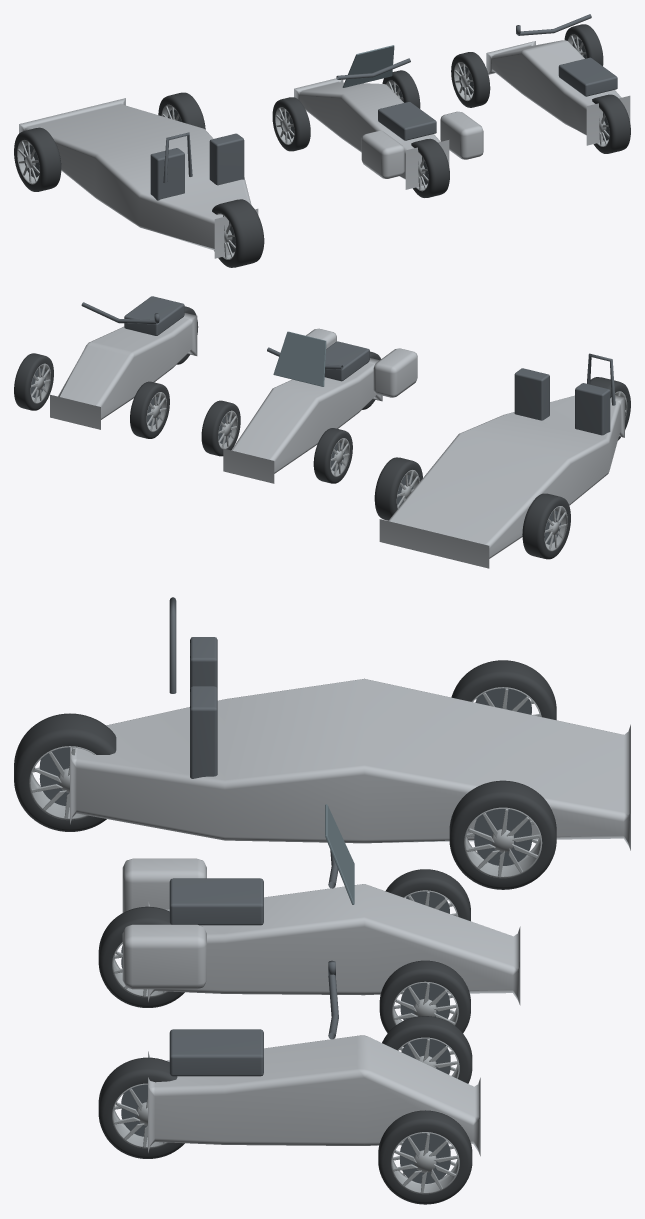
Rendered from scale-blockouts.glb.
The picture shows the model from 3 angles, top to bottom: view 1: azimuth 30°, elevation 25°; view 2: azimuth 150°, elevation 25°; view 3: azimuth 270°, elevation 25°; orthographic projection. The views are drawn at different scales.
Visible parts, largest first — view 1: slingshot_body_envelope, ryker_rally_body_envelope, spyder_f3t_body_envelope, slingshot_rear_tire, slingshot_front_left_tire, f3t_luggage, scale_seat.001, f3t_luggage.001, tandem_seat.001, tandem_seat, scale_seat, ryker_rally_rear_tire (+10 smaller); view 2: slingshot_body_envelope, spyder_f3t_body_envelope, ryker_rally_body_envelope, f3t_windshield, slingshot_front_left_tire, f3t_luggage, scale_seat, scale_seat.001, slingshot_front_right_tire, tandem_seat.001, ryker_rally_front_right_tire, ryker_rally_front_left_tire (+4 smaller); view 3: slingshot_body_envelope, ryker_rally_body_envelope, spyder_f3t_body_envelope, f3t_luggage.001, slingshot_front_right_tire, slingshot_rear_tire, tandem_seat.001, tandem_seat, ryker_rally_front_right_tire, ryker_rally_rear_tire, f3t_luggage, slingshot_front_left_tire (+12 smaller).
Part boxes in pixels (left/top/right/bottom): slingshot_body_envelope: left=19, top=98, right=258, bottom=258; ryker_rally_body_envelope: left=486, top=40, right=630, bottom=145; spyder_f3t_body_envelope: left=294, top=78, right=449, bottom=189; slingshot_rear_tire: left=212, top=199, right=264, bottom=267; slingshot_front_left_tire: left=14, top=127, right=61, bottom=191; f3t_luggage: left=361, top=131, right=404, bottom=178; scale_seat.001: left=209, top=133, right=244, bottom=185; f3t_luggage.001: left=440, top=111, right=483, bottom=159; tandem_seat.001: left=558, top=57, right=617, bottom=96; tandem_seat: left=378, top=102, right=436, bottom=140; scale_seat: left=150, top=148, right=184, bottom=200; ryker_rally_rear_tire: left=592, top=94, right=630, bottom=153; slingshot_body_envelope: left=379, top=395, right=624, bottom=568; spyder_f3t_body_envelope: left=223, top=358, right=382, bottom=483; ryker_rally_body_envelope: left=50, top=313, right=197, bottom=429; f3t_windshield: left=273, top=331, right=326, bottom=386; slingshot_front_left_tire: left=522, top=493, right=570, bottom=559; f3t_luggage: left=373, top=348, right=417, bottom=397; scale_seat: left=575, top=383, right=610, bottom=435; scale_seat.001: left=514, top=368, right=549, bottom=420; slingshot_front_right_tire: left=374, top=457, right=422, bottom=520; tandem_seat.001: left=124, top=296, right=184, bottom=335; ryker_rally_front_right_tire: left=14, top=353, right=53, bottom=410; ryker_rally_front_left_tire: left=130, top=381, right=169, bottom=438; slingshot_body_envelope: left=70, top=678, right=630, bottom=850; ryker_rally_body_envelope: left=148, top=1035, right=480, bottom=1156; spyder_f3t_body_envelope: left=148, top=884, right=520, bottom=1005; f3t_luggage.001: left=122, top=924, right=206, bottom=989; slingshot_front_right_tire: left=449, top=780, right=556, bottom=889; slingshot_rear_tire: left=14, top=713, right=116, bottom=831; tandem_seat.001: left=169, top=1029, right=263, bottom=1076; tandem_seat: left=169, top=878, right=263, bottom=925; ryker_rally_front_right_tire: left=378, top=1110, right=472, bottom=1204; ryker_rally_rear_tire: left=98, top=1057, right=184, bottom=1158; f3t_luggage: left=122, top=858, right=206, bottom=912; slingshot_front_left_tire: left=451, top=660, right=556, bottom=720.
Bounding box in the file's own units: 6.58 × 1.31 × 3.8.
